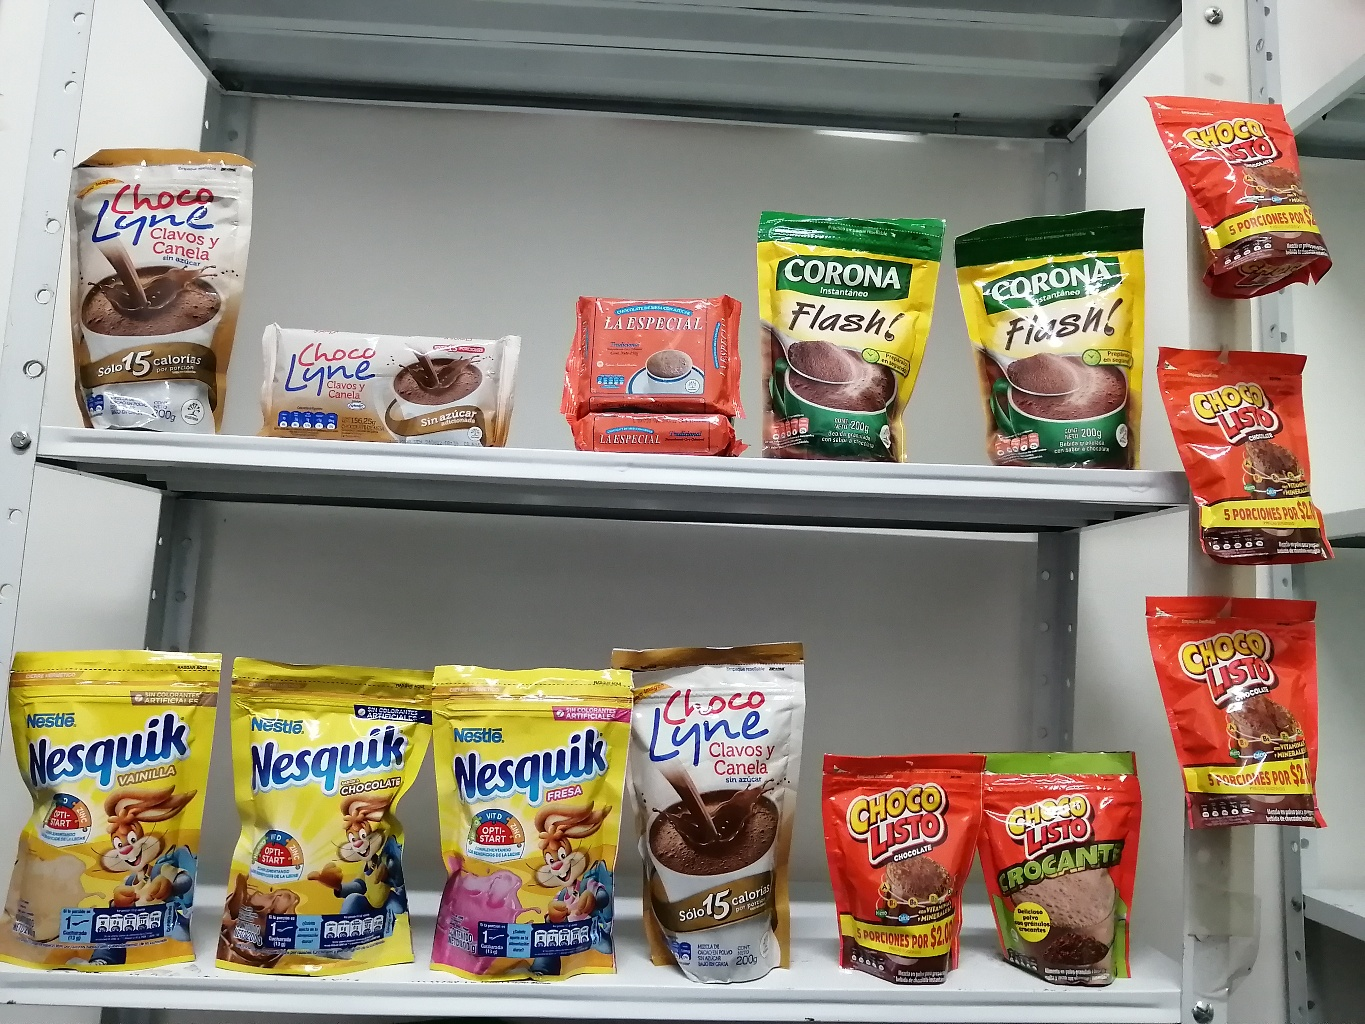COL0170102DYP10000: (985, 735, 1149, 989)
COL0170103DYP10000: (809, 742, 981, 989)
COL0170303DYP20000: (227, 656, 450, 983)
COL0170305DYP20000: (432, 662, 643, 991)
COL0170306DYP20000: (0, 638, 237, 977)
